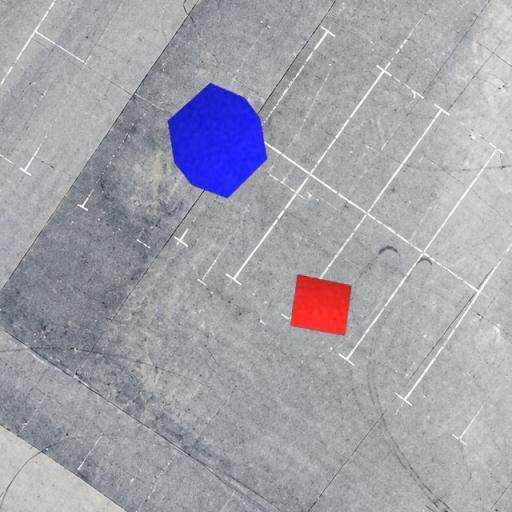RED_SQUARE: (290, 274, 352, 336)
